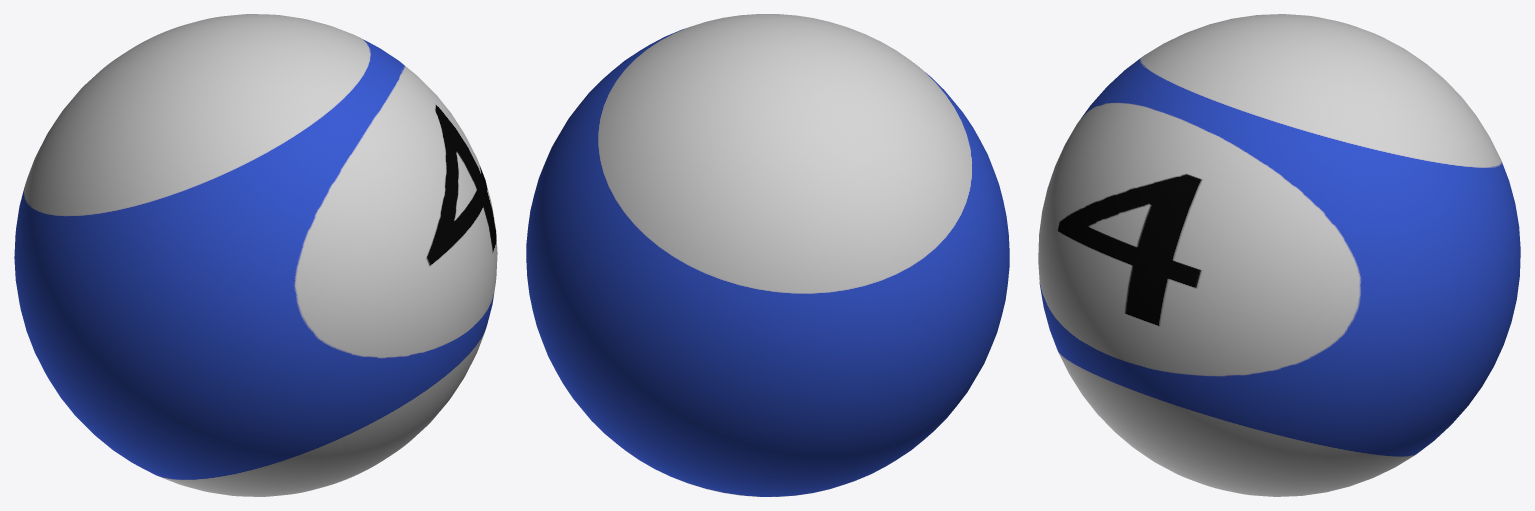
Rendered from gltfbola4.gltf.
3 views of the same model, side by side, from view 1: azimuth 30°, elevation 25°; view 2: azimuth 150°, elevation 25°; view 3: azimuth 270°, elevation 25° (orthographic).
Parts seen in each view (by area): view 1: Sphere; view 2: Sphere; view 3: Sphere.
Boxes of the visible parts, left/top/right/bottom form: Sphere: left=14, top=14, right=497, bottom=496; Sphere: left=526, top=14, right=1009, bottom=496; Sphere: left=1038, top=14, right=1520, bottom=496.
Size of the model in its own units: 2 by 2 by 2.
Materials: 1 (1 with a texture image).
